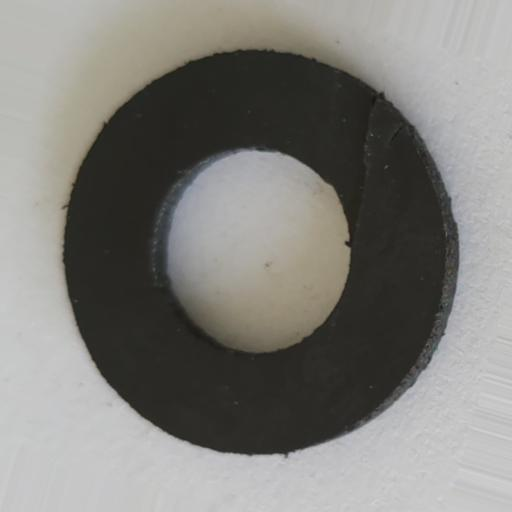defect: (350, 94, 406, 248)
